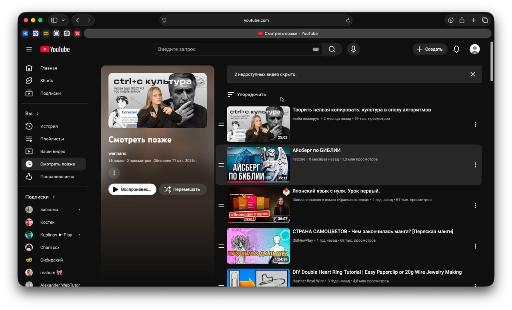youtube: (18, 39, 494, 287)
